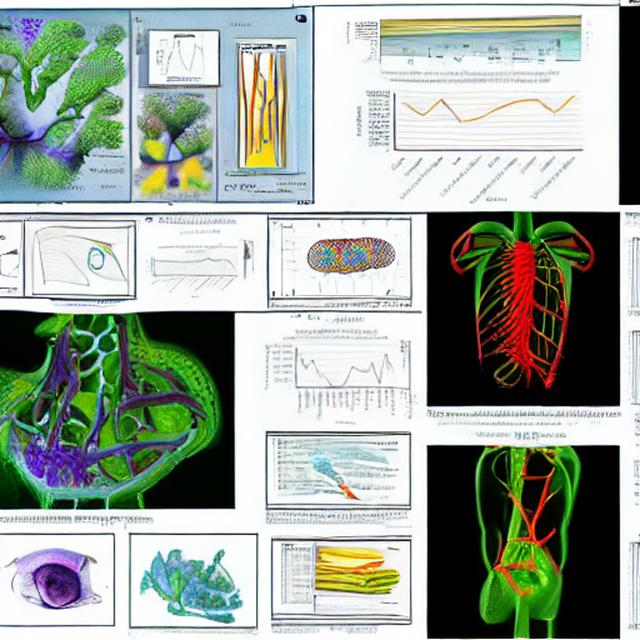Graph: (353, 66, 588, 207), (260, 327, 399, 428), (142, 243, 240, 299), (151, 32, 216, 81)
